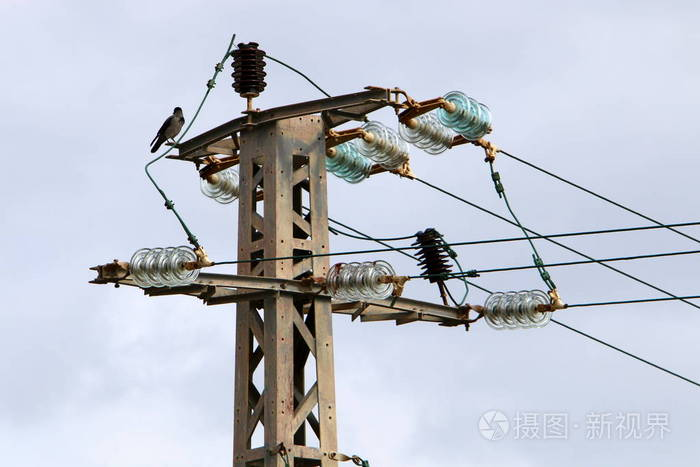insulator: (130, 245, 198, 291), (326, 261, 393, 305), (482, 292, 555, 329), (436, 94, 492, 137), (401, 115, 452, 156), (359, 125, 409, 164), (324, 143, 372, 183), (198, 166, 239, 206)
